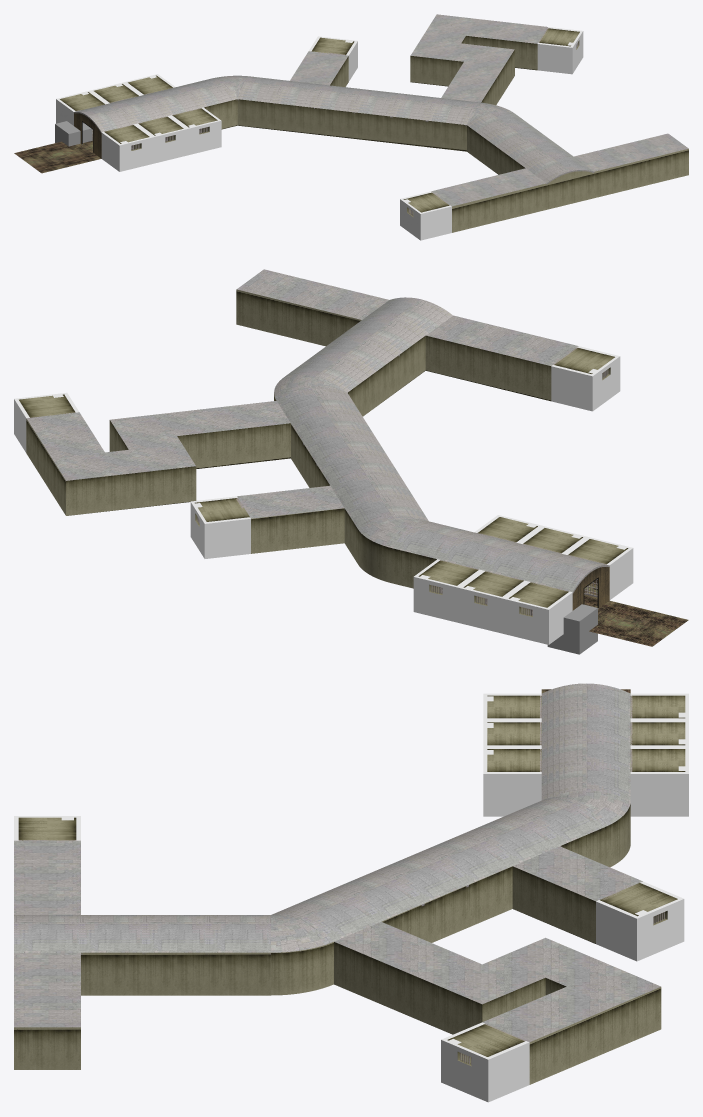
File: prisao.obj
3 renders of one model, top to bottom at view 1: azimuth 30°, elevation 25°; view 2: azimuth 150°, elevation 25°; view 3: azimuth 270°, elevation 25°, orthographic. The views are drawn at different scales.
Visible parts, largest first — view 1: Mesh222_Group1_Model, Mesh334_Group15_Model, Mesh304_Group16_Group15_Model, Mesh730_Group35_Group34_Group22_Model, Mesh81_Group2_Group1_Model, Mesh972_Group22_Model, Mesh834_Group38_Group34_Group22_Model, Mesh938_Group41_Group34_Group22_Model, Mesh210_Group9_Group1_Model, Mesh218_Group13_Group1_Model, Mesh964_Group46_Group44_Group22_Model, Mesh328_Group19_Group15_Model (+18 smaller); view 2: Mesh222_Group1_Model, Mesh334_Group15_Model, Mesh304_Group16_Group15_Model, Mesh626_Group31_Group24_Group22_Model, Mesh186_Group5_Group1_Model, Mesh972_Group22_Model, Mesh522_Group28_Group24_Group22_Model, Mesh418_Group25_Group24_Group22_Model, Mesh974_Group50_Model, Mesh730_Group35_Group34_Group22_Model, Mesh210_Group9_Group1_Model, Mesh218_Group13_Group1_Model (+18 smaller); view 3: Mesh222_Group1_Model, Mesh334_Group15_Model, Mesh186_Group5_Group1_Model, Mesh81_Group2_Group1_Model, Mesh976_Group51_Model, Mesh418_Group25_Group24_Group22_Model, Mesh938_Group41_Group34_Group22_Model, Mesh974_Group50_Model, Mesh218_Group13_Group1_Model, Mesh210_Group9_Group1_Model, Mesh964_Group46_Group44_Group22_Model, Mesh216_Group12_Group1_Model (+14 smaller).
Part boxes in pixels (left/top/right/bottom): Mesh222_Group1_Model: left=237, top=14, right=547, bottom=151; Mesh334_Group15_Model: left=431, top=125, right=688, bottom=232; Mesh304_Group16_Group15_Model: left=400, top=191, right=451, bottom=240; Mesh730_Group35_Group34_Group22_Model: left=101, top=124, right=153, bottom=171; Mesh81_Group2_Group1_Model: left=537, top=27, right=583, bottom=74; Mesh972_Group22_Model: left=14, top=134, right=100, bottom=173; Mesh834_Group38_Group34_Group22_Model: left=136, top=116, right=187, bottom=163; Mesh938_Group41_Group34_Group22_Model: left=170, top=107, right=221, bottom=155; Mesh210_Group9_Group1_Model: left=426, top=98, right=479, bottom=126; Mesh218_Group13_Group1_Model: left=275, top=80, right=327, bottom=108; Mesh964_Group46_Group44_Group22_Model: left=74, top=103, right=135, bottom=132; Mesh328_Group19_Group15_Model: left=467, top=111, right=533, bottom=139; Mesh222_Group1_Model: left=26, top=401, right=357, bottom=563; Mesh334_Group15_Model: left=236, top=269, right=578, bottom=416; Mesh304_Group16_Group15_Model: left=551, top=346, right=620, bottom=411; Mesh626_Group31_Group24_Group22_Model: left=503, top=581, right=572, bottom=644; Mesh186_Group5_Group1_Model: left=190, top=496, right=250, bottom=558; Mesh972_Group22_Model: left=584, top=594, right=688, bottom=646; Mesh522_Group28_Group24_Group22_Model: left=458, top=570, right=526, bottom=633; Mesh418_Group25_Group24_Group22_Model: left=413, top=559, right=481, bottom=622; Mesh974_Group50_Model: left=358, top=516, right=427, bottom=583; Mesh730_Group35_Group34_Group22_Model: left=564, top=537, right=633, bottom=599; Mesh210_Group9_Group1_Model: left=277, top=388, right=361, bottom=422; Mesh218_Group13_Group1_Model: left=330, top=473, right=414, bottom=507; Mesh222_Group1_Model: left=334, top=827, right=661, bottom=1084; Mesh334_Group15_Model: left=14, top=840, right=270, bottom=1069; Mesh186_Group5_Group1_Model: left=596, top=881, right=684, bottom=961; Mesh81_Group2_Group1_Model: left=441, top=1022, right=529, bottom=1102; Mesh976_Group51_Model: left=271, top=913, right=333, bottom=995; Mesh418_Group25_Group24_Group22_Model: left=630, top=747, right=688, bottom=816; Mesh938_Group41_Group34_Group22_Model: left=483, top=747, right=541, bottom=816; Mesh974_Group50_Model: left=542, top=790, right=630, bottom=867; Mesh218_Group13_Group1_Model: left=450, top=818, right=559, bottom=865; Mesh210_Group9_Group1_Model: left=271, top=893, right=380, bottom=941; Mesh964_Group46_Group44_Group22_Model: left=541, top=683, right=630, bottom=719; Mesh216_Group12_Group1_Model: left=360, top=857, right=467, bottom=905.
Size of the model in its own units: 43.84 by 3.62 by 30.26.
17 materials, 14 textured.
